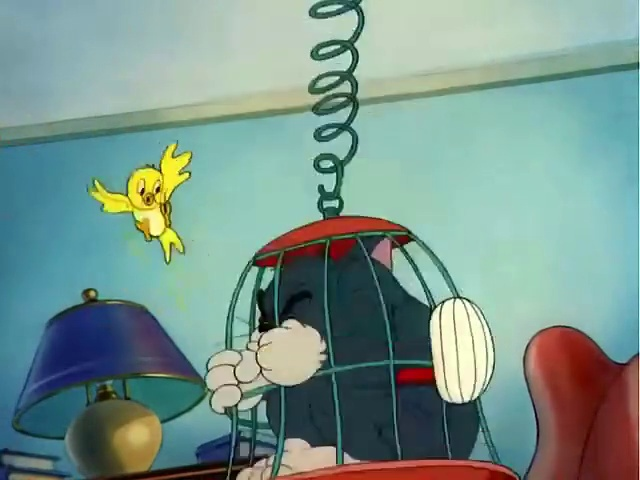tom: (205, 219, 498, 465)
